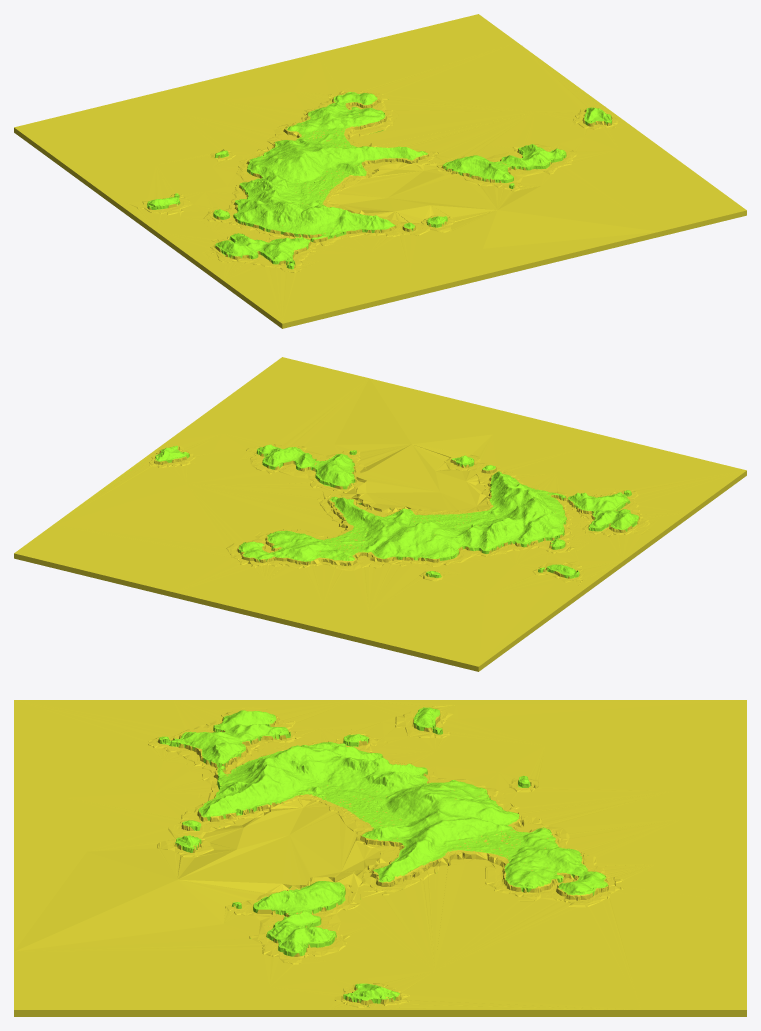
File: LandScape.fbx
The picture shows the model from 3 angles, top to bottom: view 1: azimuth 30°, elevation 25°; view 2: azimuth 150°, elevation 25°; view 3: azimuth 270°, elevation 25°; orthographic projection. The views are drawn at different scales.
Parts seen in each view (by area): view 1: Plane; view 2: Plane; view 3: Plane.
Boxes of the visible parts, left/top/right/bottom form: Plane: left=14, top=14, right=746, bottom=328; Plane: left=14, top=357, right=746, bottom=671; Plane: left=14, top=700, right=746, bottom=1016.
Bounding box in the file's own units: 19998 × 978 × 19998.
